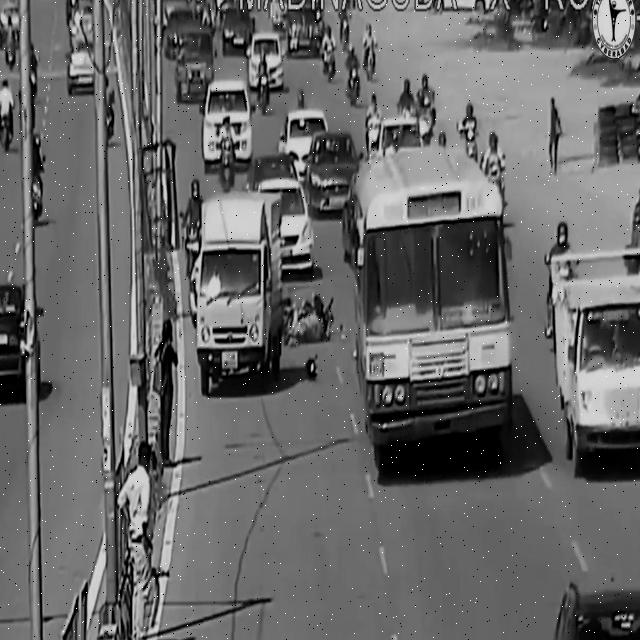accident: (282, 268, 341, 388)
